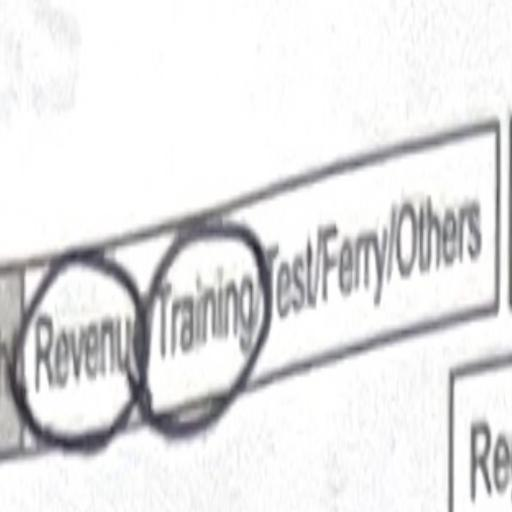check: (144, 194, 258, 445), (22, 238, 136, 451)
